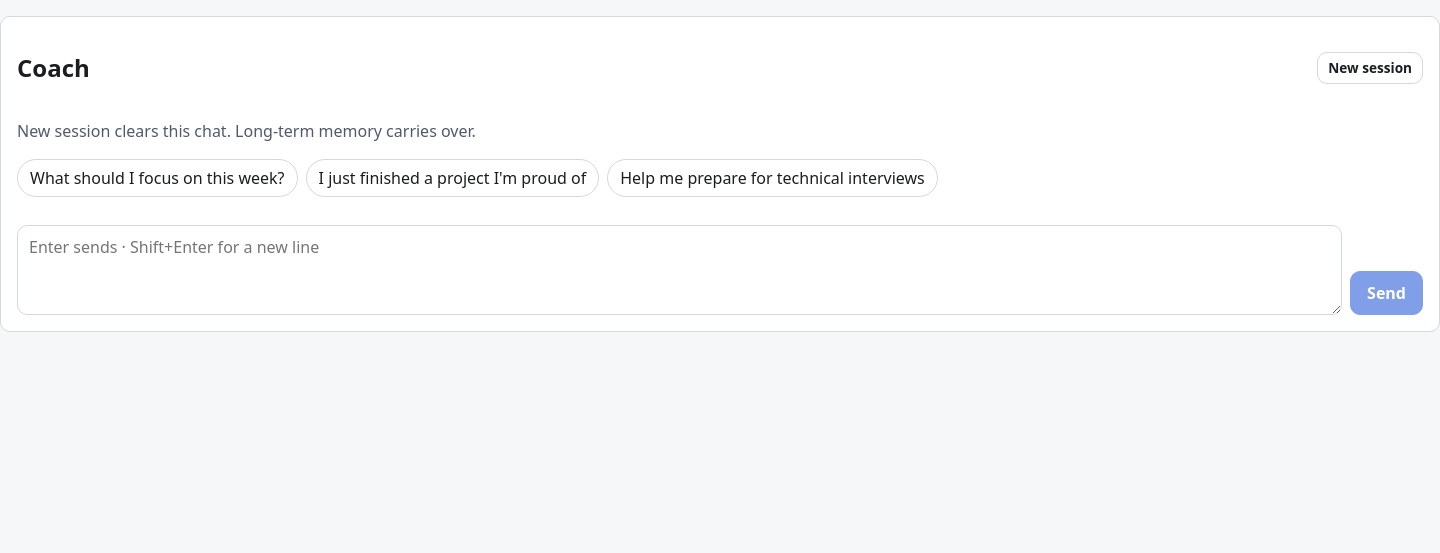
Scenario: CoachPanel › a saved note with a failed refresh never claims the profile changed, and offers a retry
Type "I passed it!" into the text box named "Message the coach".
click(680, 270); type("I passed it!")  # box [17,225,1342,315]
Then press Enter
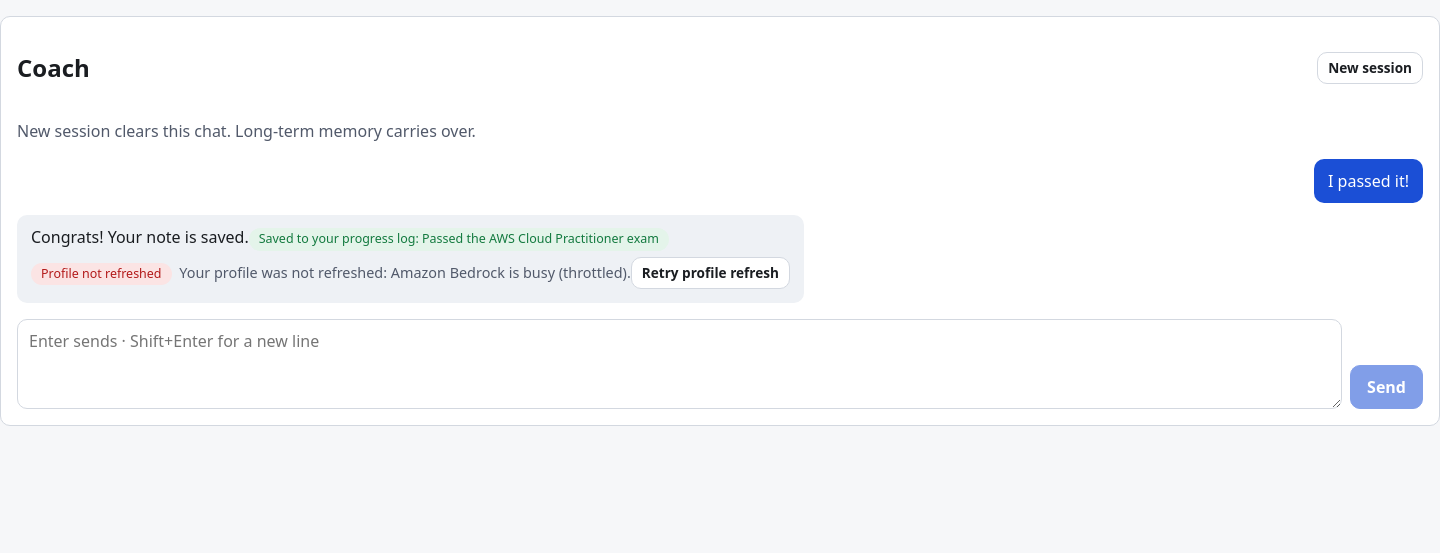
Now the text "Profile not refreshed" is shown, box [31,262,172,285]
Now the text "Your profile was not refreshed: Amazon Bedrock is busy (throttled)." is shown, box [179,262,631,282]
Now the text "Saved to your progress log: Passed the AWS Cloud Practitioner exam" is shown, box [249,228,669,250]
Click the button "Retry profile refresh".
click(710, 273)  # box [631,256,790,289]
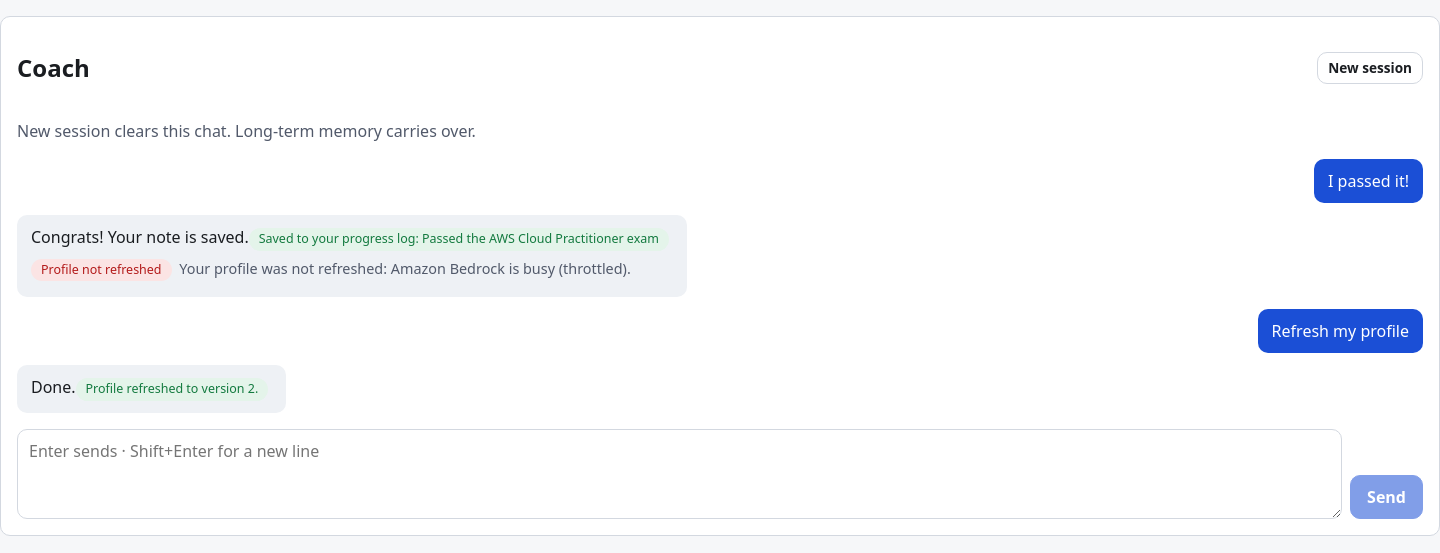
Now the text "Profile refreshed to version 2." is shown, box [76,378,268,401]
Now the button "Retry profile refresh" is gone
